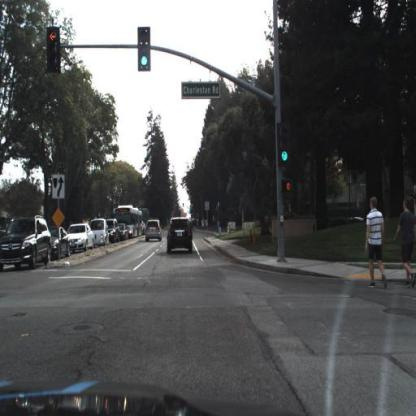car: (165, 215, 195, 257), (47, 224, 72, 262), (70, 221, 94, 253), (49, 226, 69, 261), (144, 218, 164, 246), (94, 218, 110, 246), (106, 218, 120, 244), (119, 224, 130, 242)
pedestrian: (367, 197, 390, 291), (395, 199, 416, 292)
trafficLight-Green: (281, 126, 291, 162)
truck: (120, 205, 145, 237)
